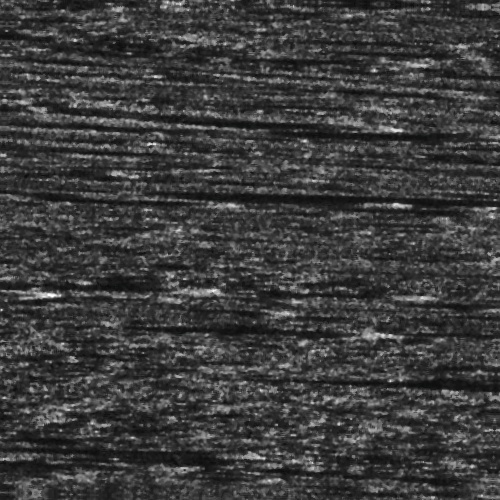object: (0, 292, 109, 305), (120, 462, 235, 473), (163, 198, 268, 207), (337, 53, 430, 60), (455, 119, 500, 130), (465, 201, 496, 212), (379, 287, 442, 292), (351, 100, 404, 105), (439, 44, 480, 49), (487, 290, 500, 301), (357, 326, 398, 329), (227, 451, 258, 454), (372, 119, 383, 124), (492, 324, 500, 329)
shadow: (274, 187, 500, 202), (305, 369, 500, 384), (267, 119, 491, 130), (0, 462, 178, 473), (66, 198, 215, 207), (244, 53, 383, 60), (190, 119, 377, 124), (428, 290, 500, 301), (0, 451, 242, 454), (236, 100, 377, 105), (270, 287, 410, 292), (324, 44, 459, 49), (186, 326, 377, 329), (0, 287, 188, 290), (435, 201, 480, 212), (0, 292, 37, 305), (428, 324, 500, 329), (457, 303, 500, 310)
